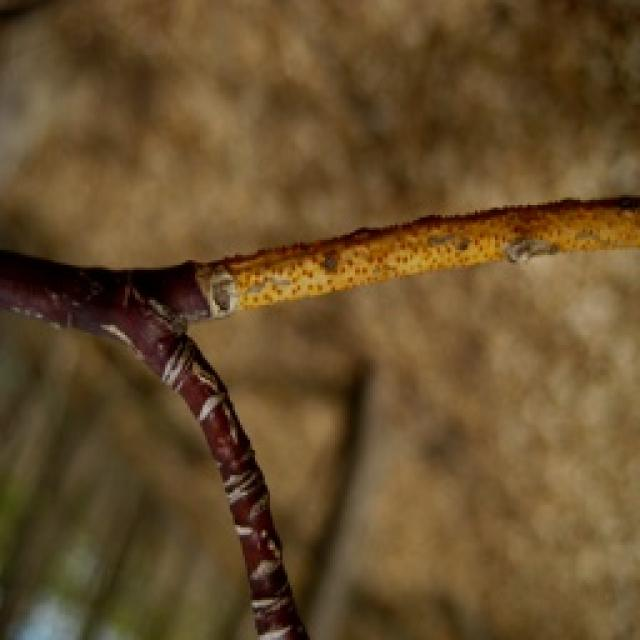Golden_canker: (182, 188, 638, 322)
